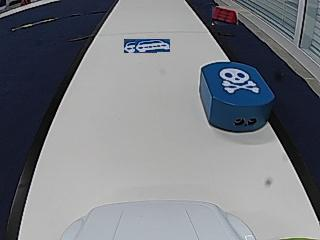danger: (220, 68, 257, 94)
